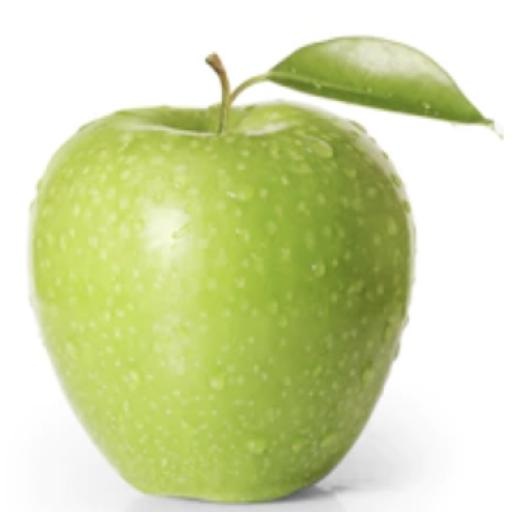apple: (27, 101, 416, 501)
